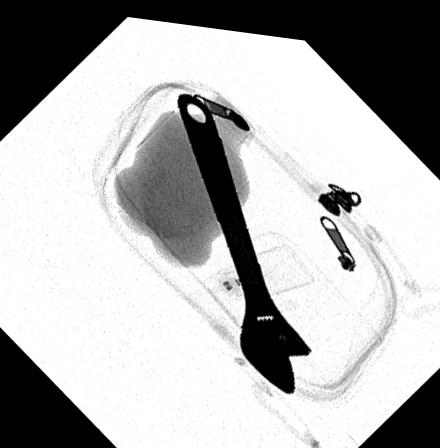Wrench: (176, 84, 314, 388)
